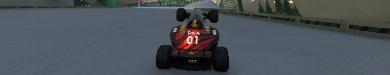Car: (155, 7, 229, 71)
